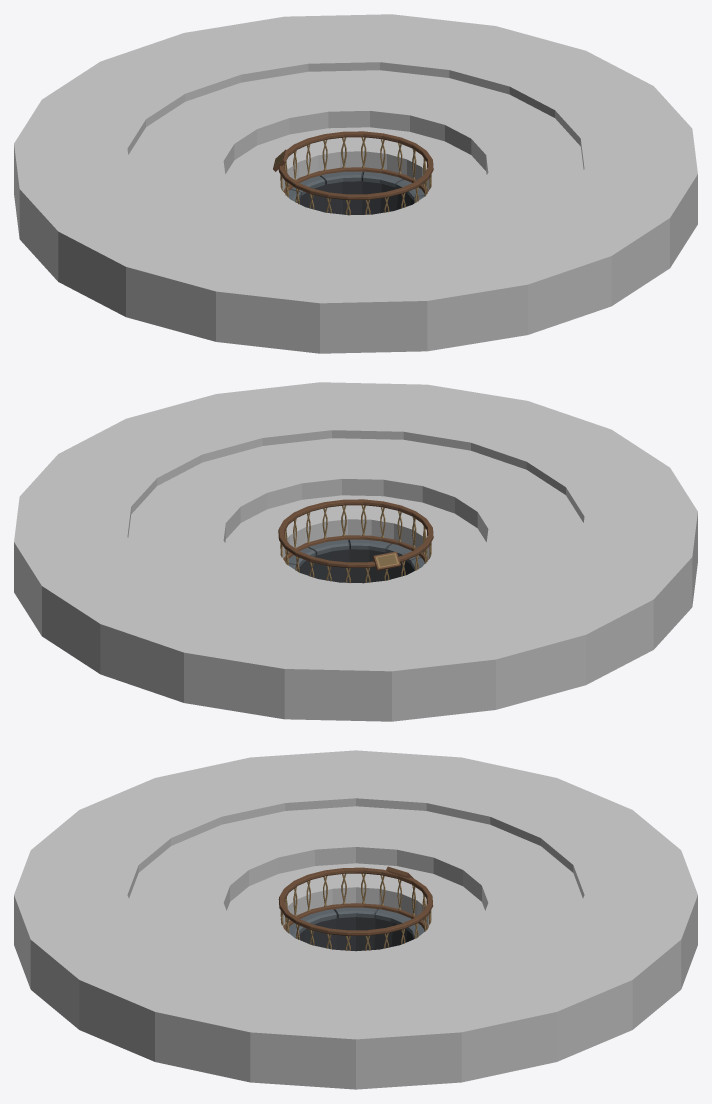
Rendered from SM_Bld_Planetarium_01.fbx.
3 renders of one model, top to bottom at view 1: azimuth 30°, elevation 25°; view 2: azimuth 150°, elevation 25°; view 3: azimuth 270°, elevation 25°, orthographic.
Parts seen in each view (by area): view 1: SM_Bld_Planetarium_01_ConvexHulls, SM_Bld_Planetarium_01; view 2: SM_Bld_Planetarium_01_ConvexHulls, SM_Bld_Planetarium_01; view 3: SM_Bld_Planetarium_01_ConvexHulls, SM_Bld_Planetarium_01.
Part boxes in pixels (box(x1,y1,x2,y2)): SM_Bld_Planetarium_01_ConvexHulls: box(14, 14, 697, 353); SM_Bld_Planetarium_01: box(273, 131, 433, 215); SM_Bld_Planetarium_01_ConvexHulls: box(14, 382, 697, 721); SM_Bld_Planetarium_01: box(278, 499, 433, 583); SM_Bld_Planetarium_01_ConvexHulls: box(14, 750, 697, 1089); SM_Bld_Planetarium_01: box(278, 866, 433, 951).
Bounding box in the file's own units: 1578 × 1578 × 223.
2 materials, 1 textured.
